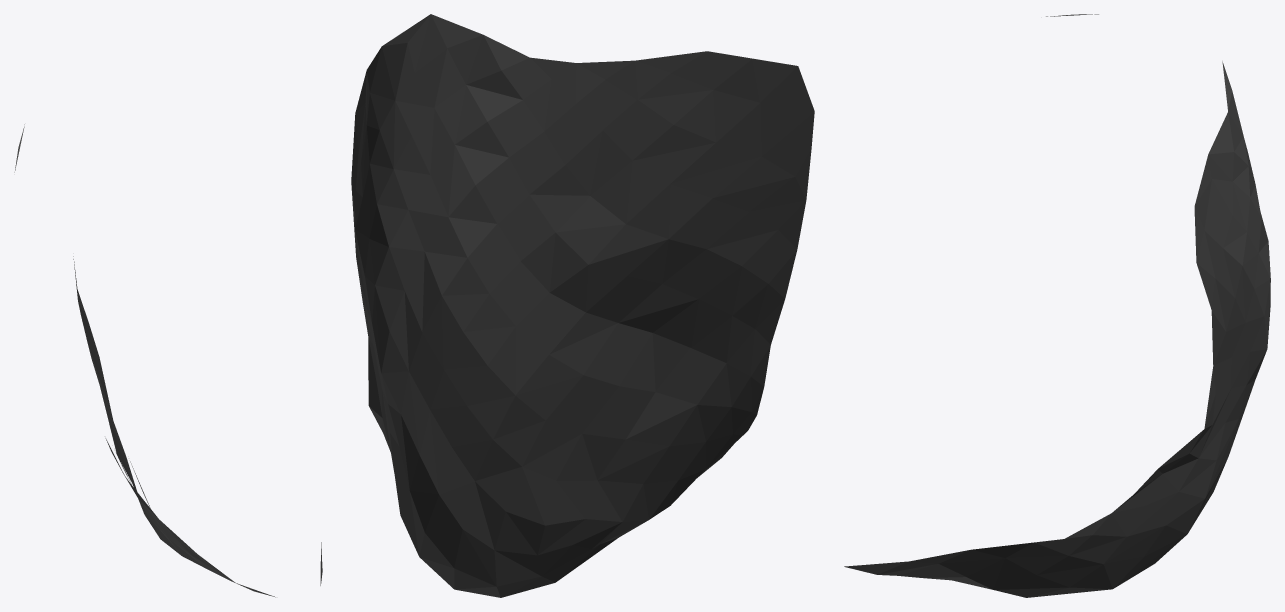
File: eminence_intercondylar_e.glb
3 renders of one model, left to right at view 1: azimuth 30°, elevation 25°; view 2: azimuth 150°, elevation 25°; view 3: azimuth 270°, elevation 25°, orthographic. The views are drawn at different scales.
Visible parts, largest first — view 1: eminence_intercondylar_e; view 2: eminence_intercondylar_e; view 3: eminence_intercondylar_e.
Part boxes in pixels (x1,y1,x2,y2): eminence_intercondylar_e: [14, 124, 322, 597]; eminence_intercondylar_e: [351, 14, 814, 597]; eminence_intercondylar_e: [844, 14, 1270, 597].
Size of the model in its own units: 0.000915 by 0.0016 by 0.00118.
1 material, 1 textured.
